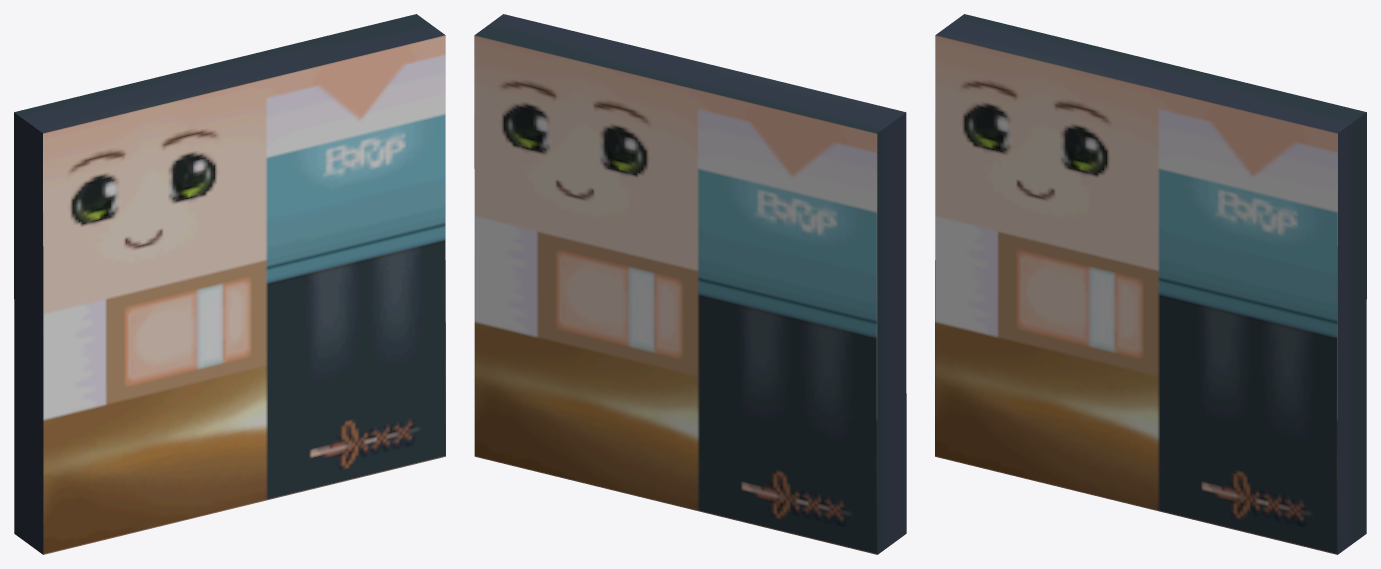
Rendered from view.ico.obj.
3 views of the same model, side by side, from view 1: azimuth 30°, elevation 25°; view 2: azimuth 150°, elevation 25°; view 3: azimuth 330°, elevation 25° (orthographic).
Size of the model in its own units: 4 by 4 by 0.5049.
